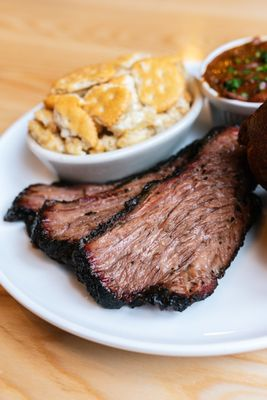sushi: (25, 48, 206, 185), (190, 34, 267, 124)
